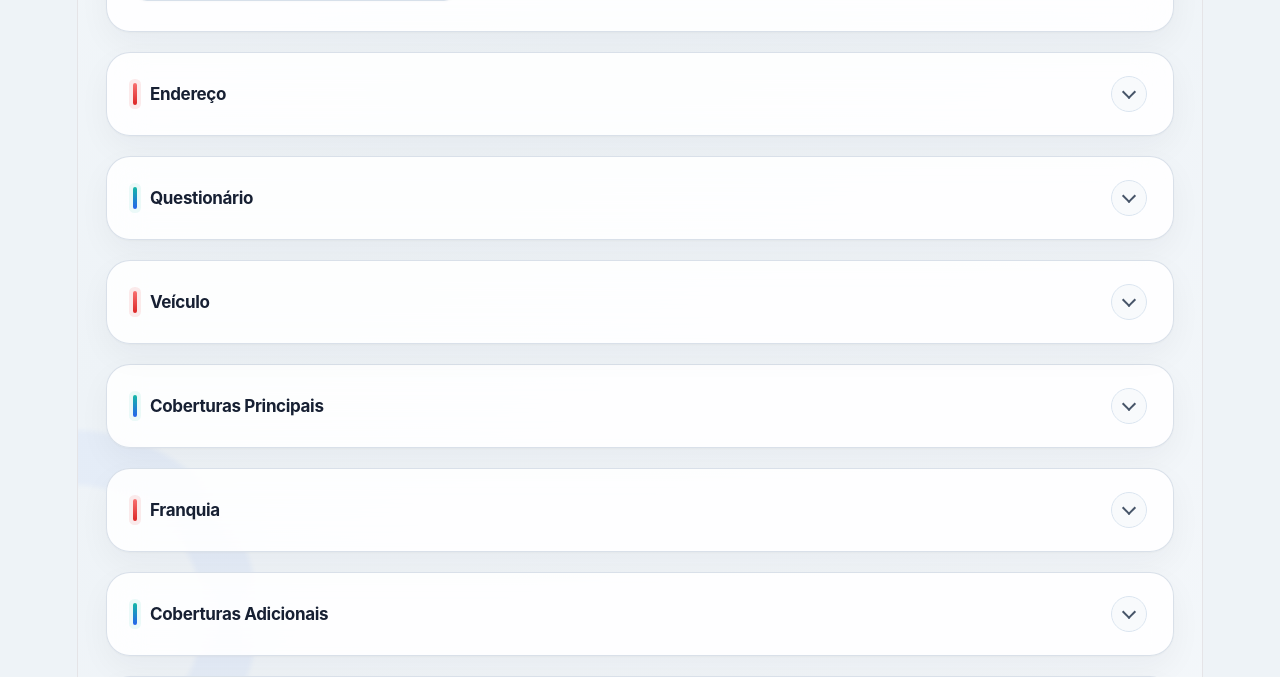
Test: NovaCotacao › loads quote domains and keeps the vehicle value read-only
(page scrolled)
Click the button "Coberturas Principais" at point(237, 406), box [107,365,1173,447]
(page scrolled)
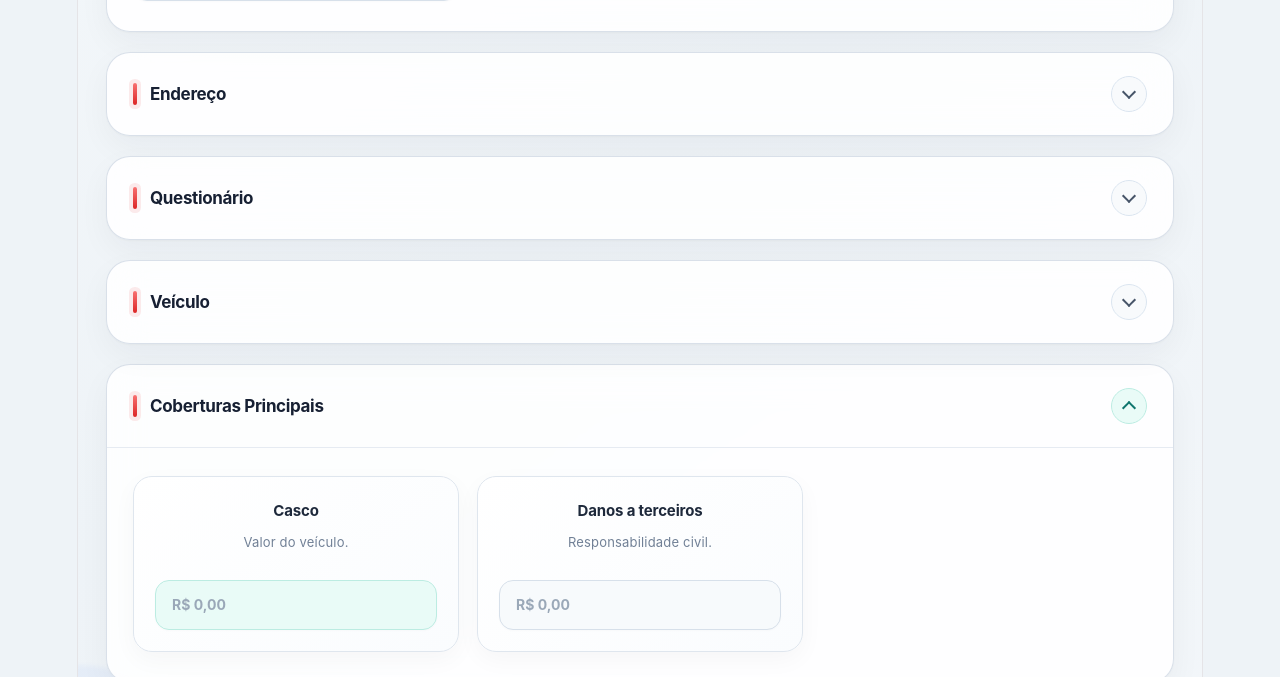
Expected: the text "Casco" is shown, [273,501,319,520]
